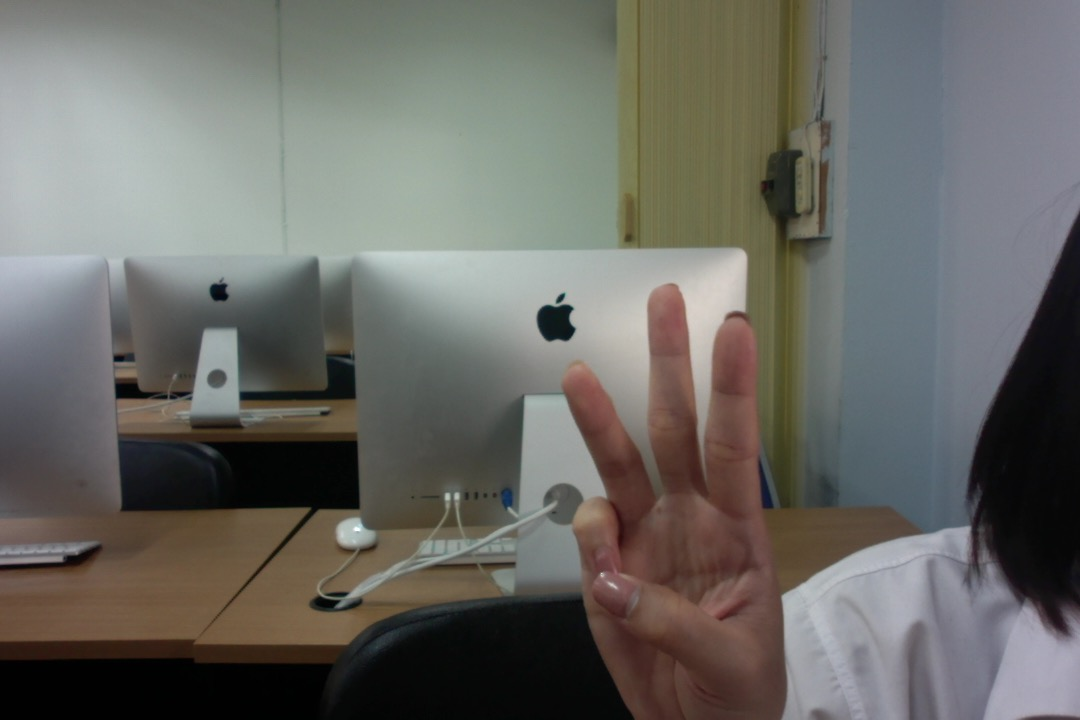wor: (545, 272, 822, 719)
